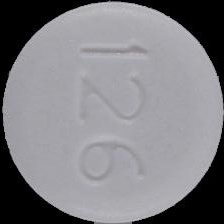69097-126: (0, 0, 224, 224)
